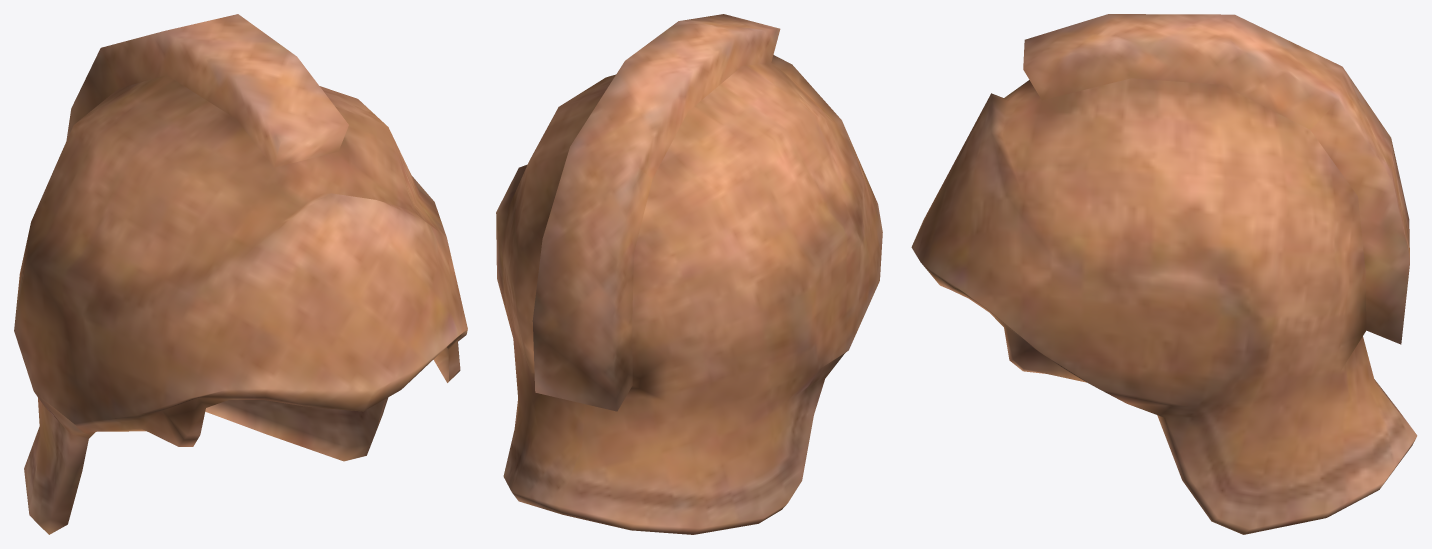
File: helmet-mediuminfantry.glb
3 views of the same model, side by side, from view 1: azimuth 30°, elevation 25°; view 2: azimuth 150°, elevation 25°; view 3: azimuth 270°, elevation 25° (orthographic). The views are drawn at different scales.
Size of the model in its own units: 0.2684 by 0.3378 by 0.3495.
Materials: 1 (1 with a texture image).
